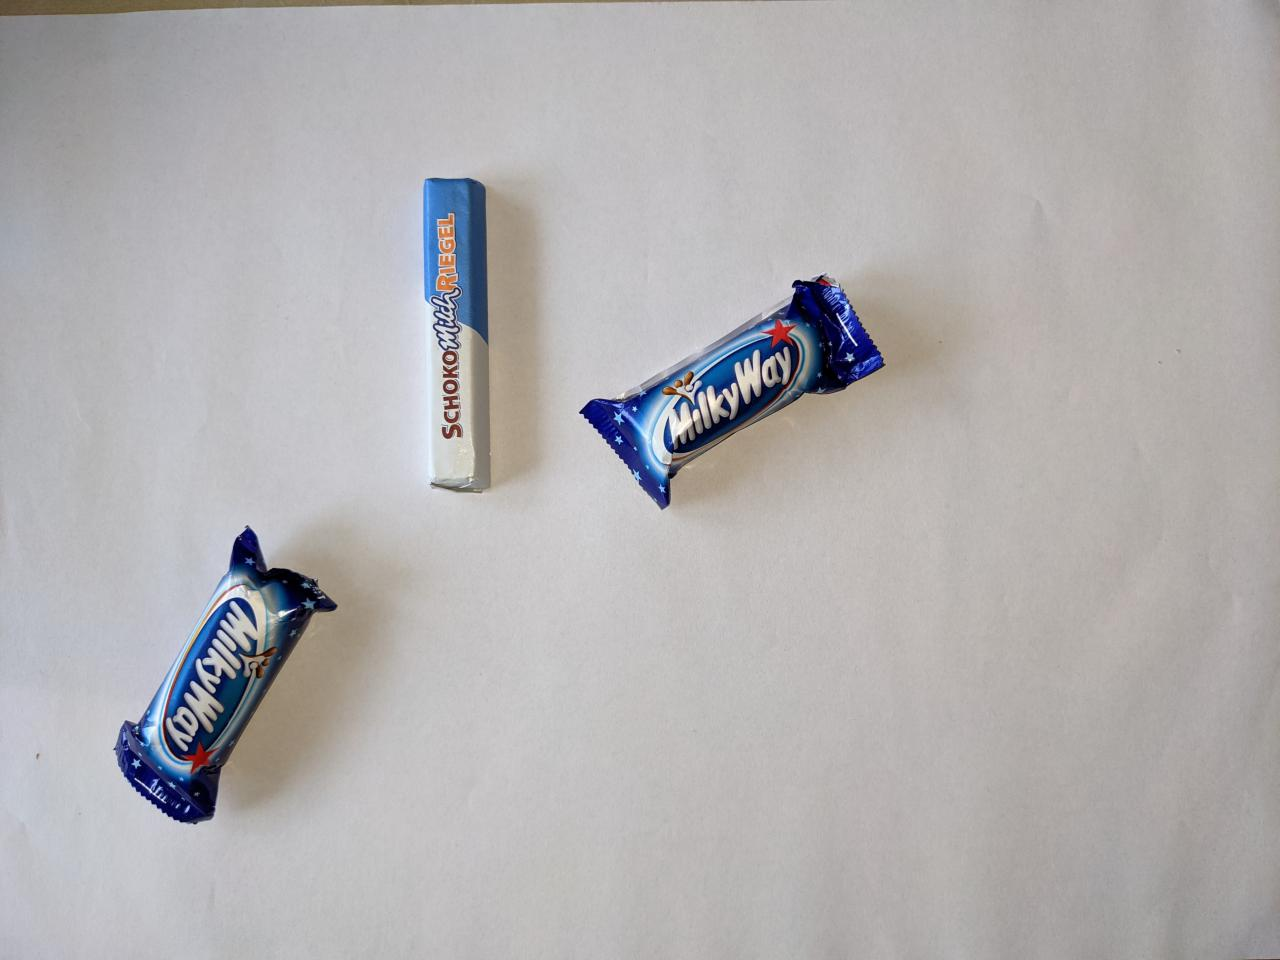MilkyWay: (573, 267, 893, 515), (106, 520, 348, 832)
Schokoriegel: (412, 170, 499, 501)
